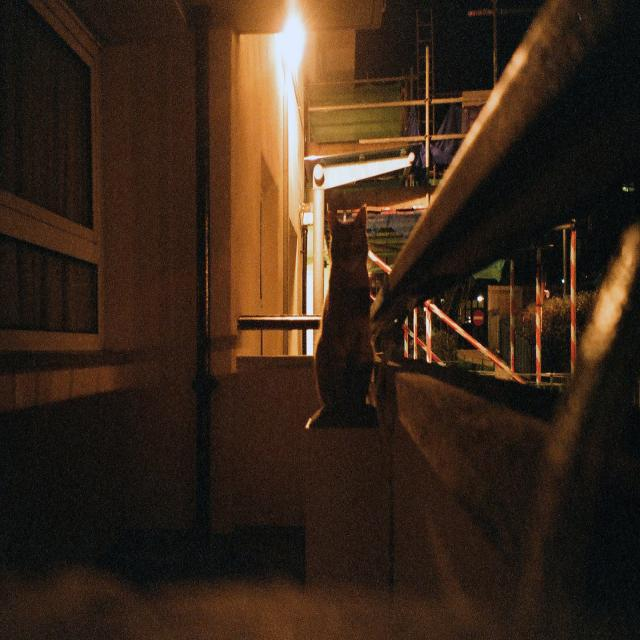Cat: (298, 182, 389, 434)
